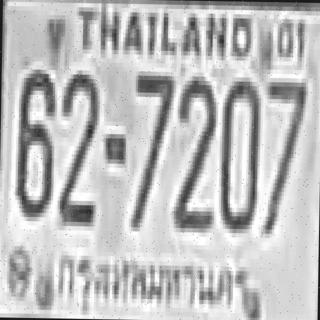N00: (218, 72, 259, 229)
N02: (57, 67, 98, 224), (174, 72, 214, 228)
N06: (14, 65, 53, 213)
N07: (130, 71, 173, 228), (262, 78, 305, 230)
P04: (53, 241, 254, 320)
